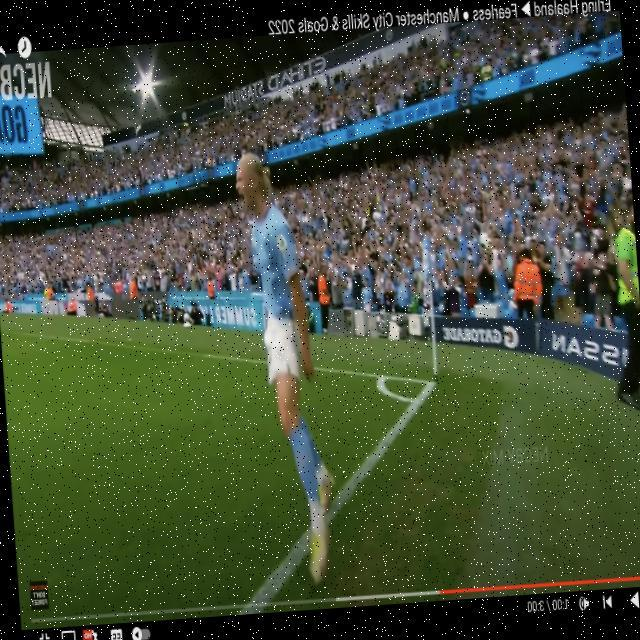Etihad Airways: (266, 54, 326, 93)
